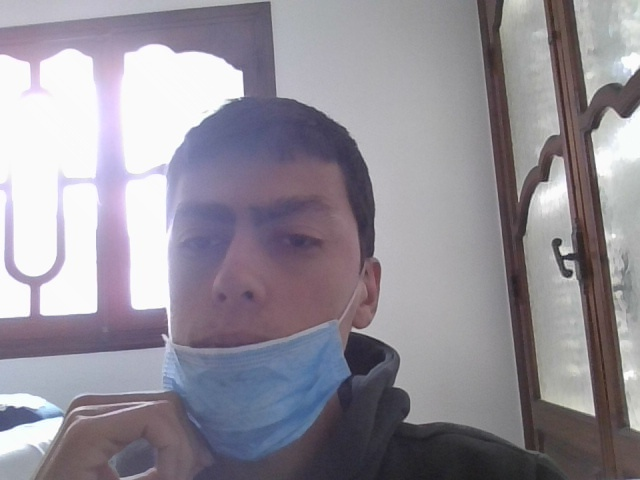mask_weared_incorrect: (152, 120, 363, 448)
